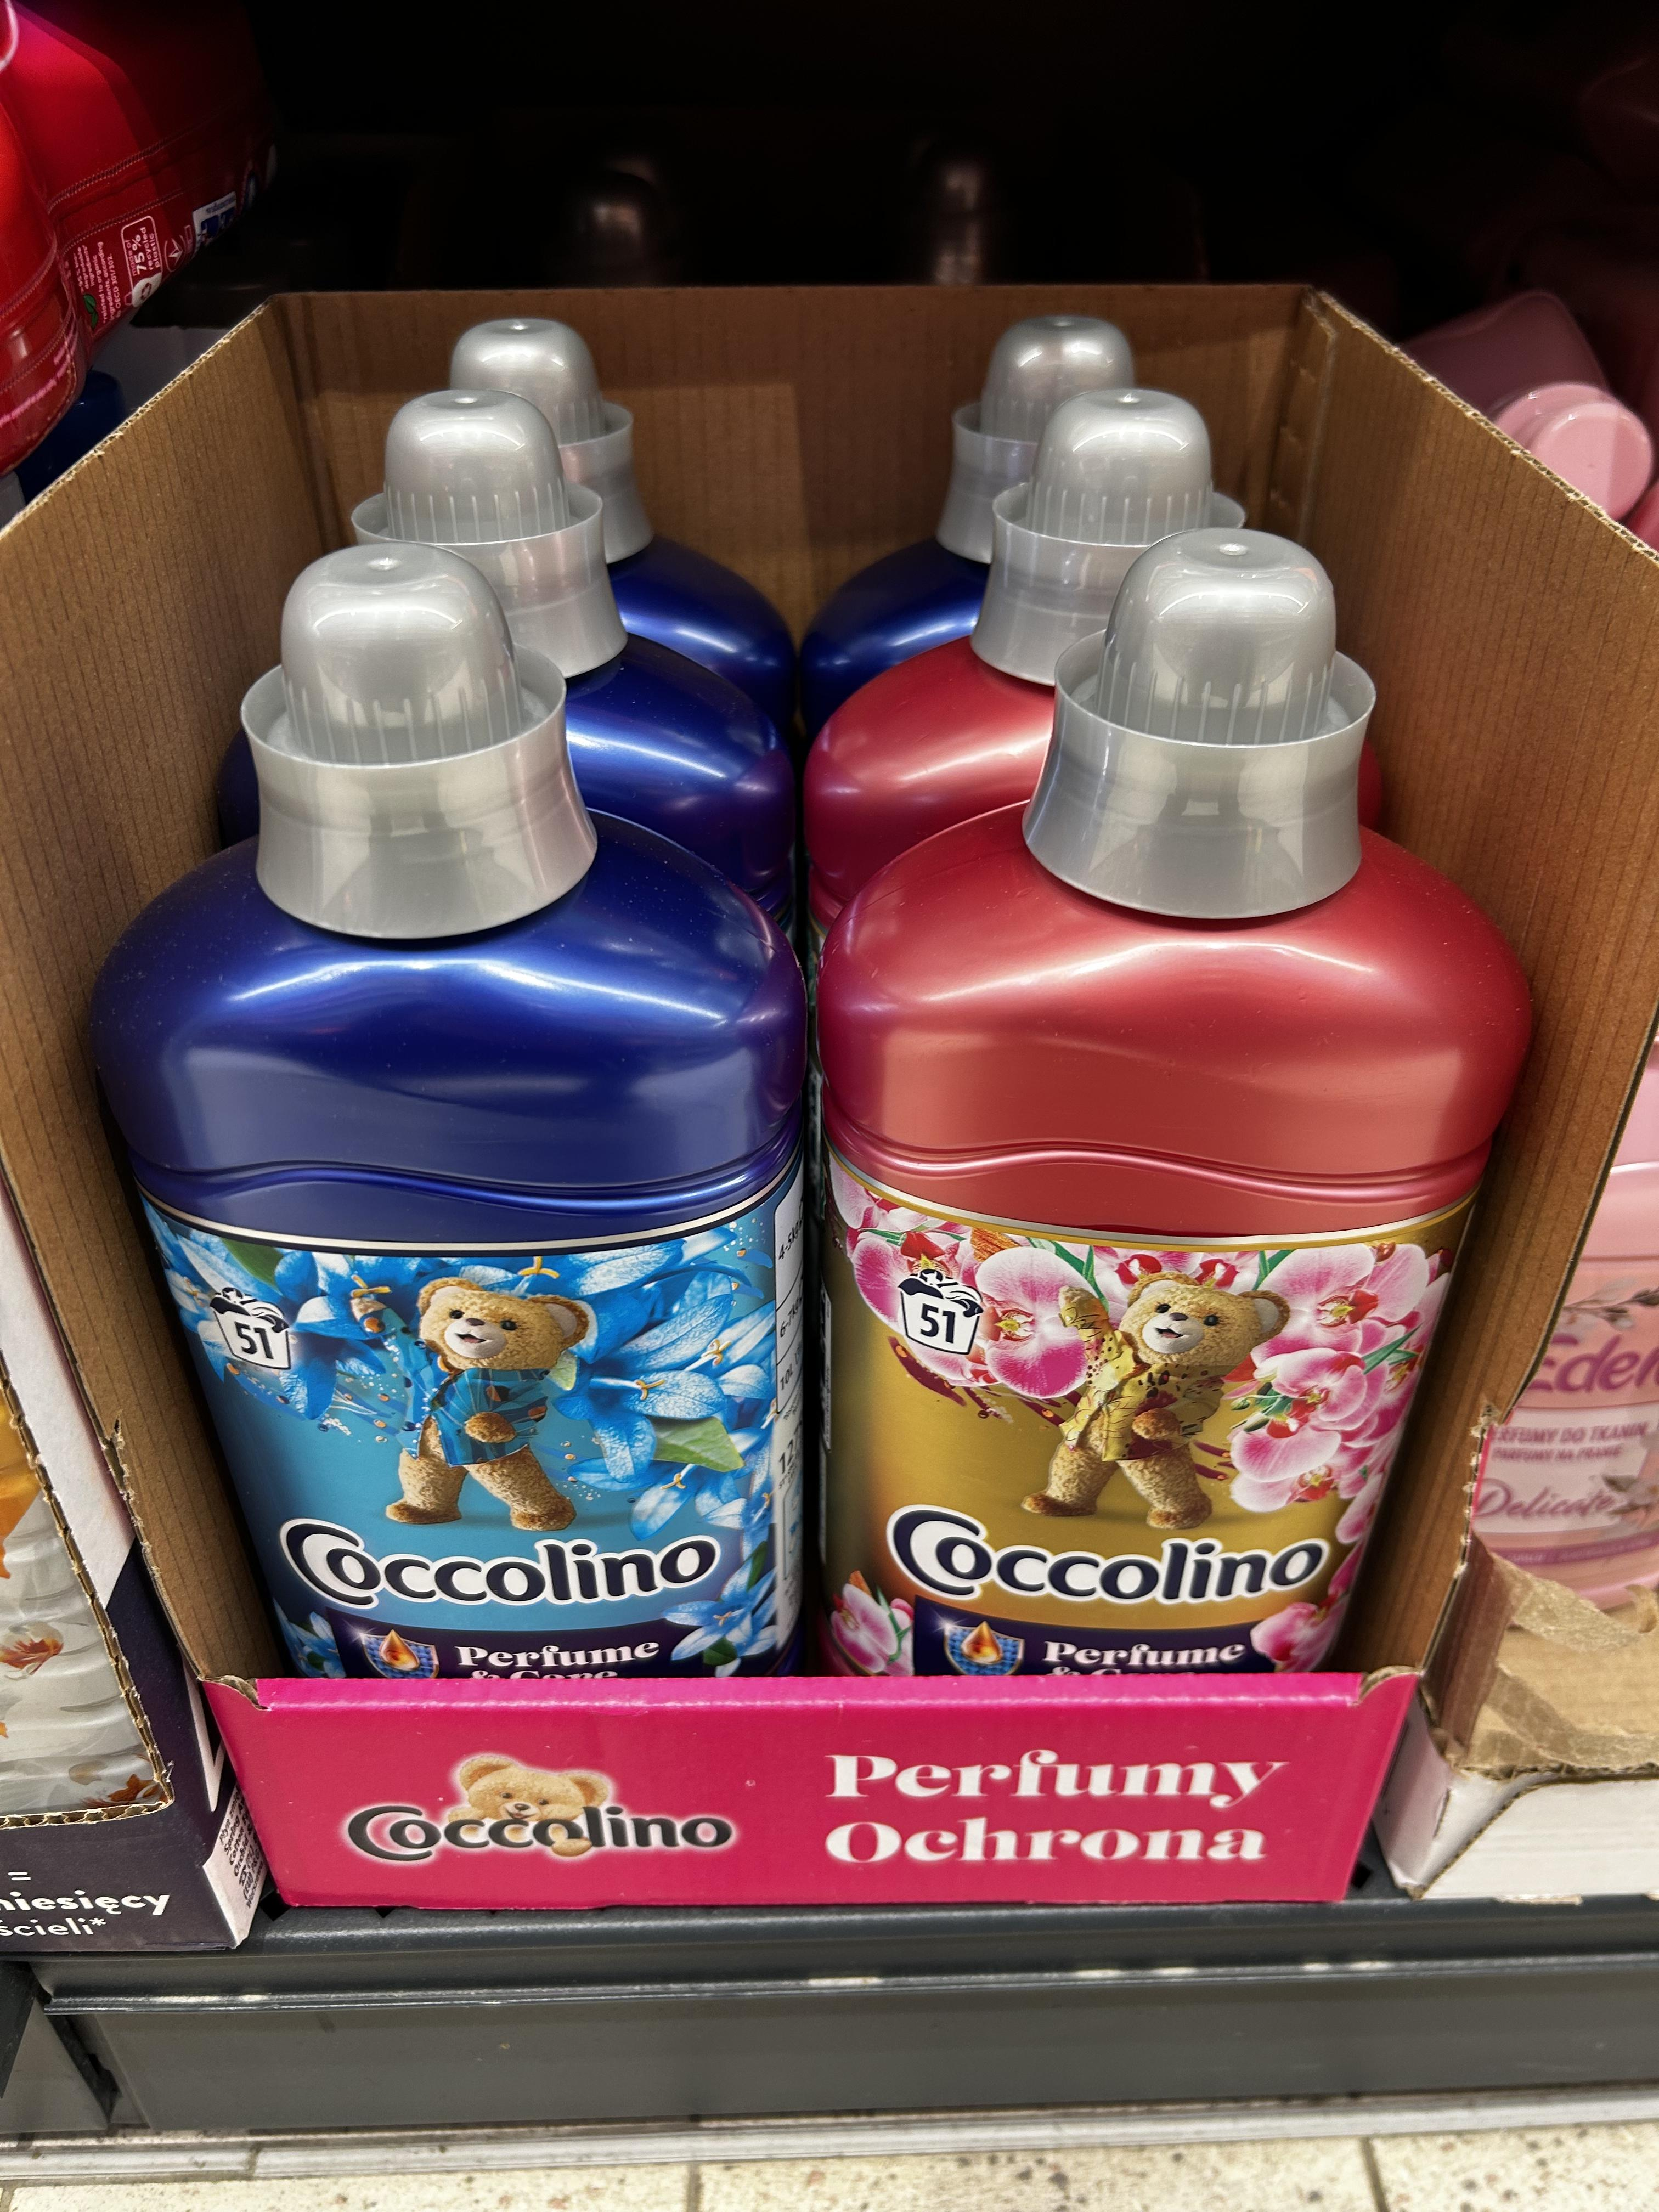cocolino: (78, 542, 809, 1686), (838, 538, 1535, 1728), (817, 399, 1443, 850), (254, 388, 812, 867), (347, 287, 802, 665), (854, 291, 1286, 669)
